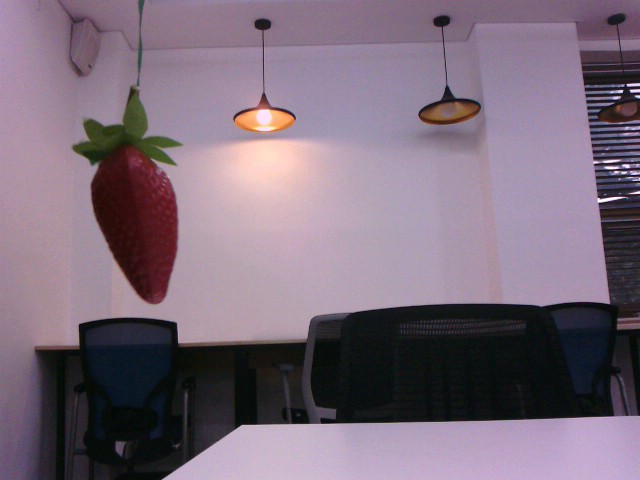strawberry: (77, 131, 185, 305)
